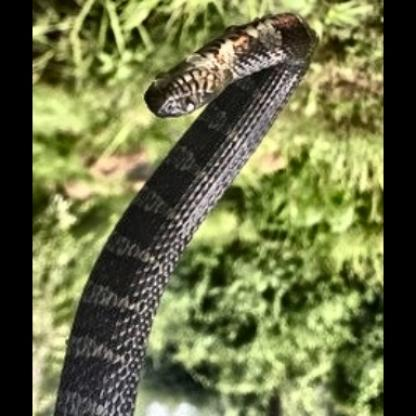Snake: (62, 11, 352, 406), (129, 10, 334, 210)
